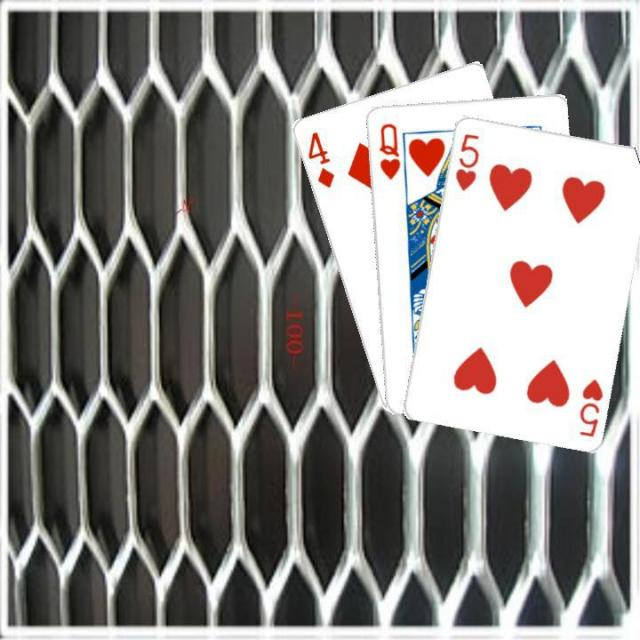4D: (303, 127, 336, 189)
5H: (575, 374, 605, 438), (451, 129, 481, 192)
QH: (375, 118, 402, 180)
